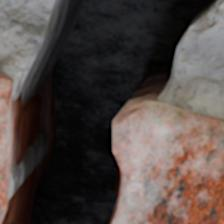broken_brick: (114, 101, 223, 223), (0, 73, 13, 220)
crack: (0, 0, 222, 223)
